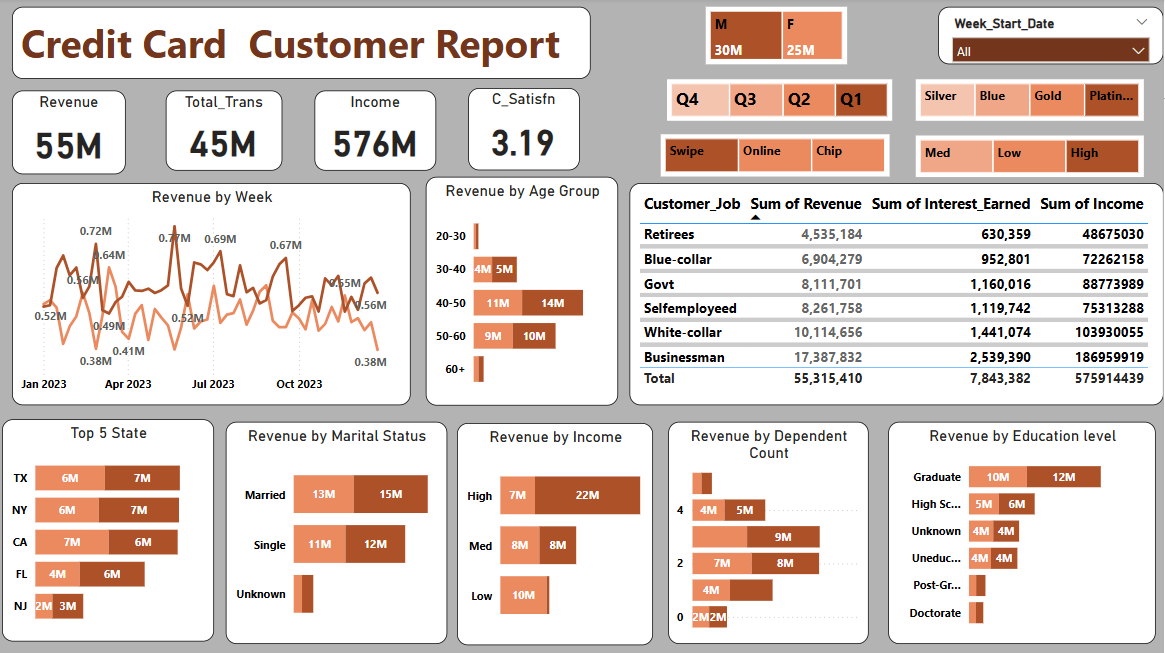

This screenshot's page, from the dashboard's own definition file:
{"tool":"powerbi","page":{"name":"Credit_Card_Customer_Report","canvas":[1280,720],"ordinal":2},"visuals":[{"type":"textbox","box":[15.8,10.1,635.1,79],"z":0},{"type":"barChart","title":" Revenue by Income","fields":{"Y":["Sum(credit_card.Revenue)"],"Category":["customer.Income Group"],"Series":["customer.Gender"]},"box":[505.5,466.4,215.5,244.3],"z":1000},{"type":"tableEx","fields":{"Values":["customer.Customer_Job","Sum(credit_card.Revenue)","Sum(credit_card.Interest_Earned)","Sum(customer.Income)"]},"box":[694,202.6,586.3,244.3],"z":2000},{"type":"card","title":"Income","fields":{"Values":["Sum(customer.Income)"]},"box":[349.2,102,133.6,87.7],"z":3000},{"type":"card","title":"Total_Trans","fields":{"Values":["Sum(credit_card.Total_Trans_Amt)"]},"box":[185.4,102,127.9,87.7],"z":4000},{"type":"card","title":"Revenue","fields":{"Values":["Sum(credit_card.Revenue)"]},"box":[15.8,102,125,92],"z":5000},{"type":"card","title":"C_Satisfn","fields":{"Values":["Avg(customer.Cust_Satisfaction_Score)"]},"box":[517.3,99.1,122.1,90.5],"z":6000},{"type":"slicer","fields":{"Values":["credit_card.Week_Start_Date"]},"box":[1033.1,10.1,247.1,63.2],"z":7000},{"type":"treemap","fields":{"Group":["credit_card.Qtr"],"Values":["Avg(credit_card.Client_Num)"]},"box":[735.7,89.1,247.1,46],"z":8000},{"type":"treemap","fields":{"Group":["credit_card.Card_Category"],"Values":["Avg(credit_card.Client_Num)"]},"box":[1008.7,89.1,250,46],"z":9000},{"type":"treemap","fields":{"Group":["customer.Income Group"],"Values":["Avg(credit_card.Client_Num)"]},"box":[1008.7,150.9,250,46],"z":10000},{"type":"lineChart","title":" Revenue by Week","fields":{"Y":["Sum(credit_card.Revenue)"],"Series":["customer.Gender"],"Category":["credit_card.Week_Start_Date.Variation.Date Hierarchy.Year","credit_card.Week_Start_Date.Variation.Date Hierarchy.Month","credit_card.Week_Start_Date.Variation.Date Hierarchy.Day"]},"box":[16.5,203.1,437.7,244.3],"z":11000},{"type":"treemap","fields":{"Group":["customer.Gender"],"Values":["Sum(credit_card.Revenue)"]},"box":[777.4,10.1,155.2,63.2],"z":12000},{"type":"barChart","title":" Revenue by Age Group","fields":{"Y":["Sum(credit_card.Revenue)"],"Category":["customer.Age Group","customer.Income Group"],"Series":["customer.Gender"]},"box":[470.7,196.2,211.3,251.1],"z":13000},{"type":"barChart","title":"Revenue by Dependent Count","fields":{"Y":["Sum(credit_card.Revenue)"],"Category":["customer.Dependent_Count"],"Series":["customer.Gender"]},"box":[736.9,465,219.8,244.3],"z":14000},{"type":"barChart","title":" Revenue by Education level","fields":{"Y":["Sum(credit_card.Revenue)"],"Category":["customer.Education_Level"],"Series":["customer.Gender"]},"box":[978.4,465.2,293.7,244.3],"z":15000},{"type":"barChart","title":"Top 5 State ","fields":{"Y":["Sum(credit_card.Revenue)"],"Category":["customer.state_cd"],"Series":["customer.Gender"]},"box":[5.2,461.8,232.8,244.3],"z":16000},{"type":"barChart","title":"Revenue by Marital Status","fields":{"Y":["Sum(credit_card.Revenue)"],"Category":["customer.Marital_Status"],"Series":["customer.Gender"]},"box":[251.2,465,242.8,244.3],"z":17000},{"type":"treemap","fields":{"Group":["credit_card.Use Chip"],"Values":["Avg(credit_card.Client_Num)"]},"box":[728.6,149.6,251.1,46.7],"z":18000}]}

Visuals, with their boxes in screenshot pixels (x1, y1, x2, y2), scaled from the page's 1280x720 canvas onto the 1165x653 screenshot:
textbox: crop(14, 9, 592, 81)
" Revenue by Income" barChart: crop(460, 423, 656, 645)
tableEx - customer.Customer_Job x Sum(credit_card.Revenue): crop(632, 184, 1164, 405)
"Income" card: crop(318, 93, 439, 172)
"Total_Trans" card: crop(169, 93, 285, 172)
"Revenue" card: crop(14, 93, 128, 176)
"C_Satisfn" card: crop(471, 90, 582, 172)
slicer - credit_card.Week_Start_Date: crop(940, 9, 1164, 66)
treemap - credit_card.Qtr x Avg(credit_card.Client_Num): crop(670, 81, 895, 123)
treemap - credit_card.Card_Category x Avg(credit_card.Client_Num): crop(918, 81, 1146, 123)
treemap - customer.Income Group x Avg(credit_card.Client_Num): crop(918, 137, 1146, 179)
" Revenue by Week" lineChart: crop(15, 184, 413, 406)
treemap - customer.Gender x Sum(credit_card.Revenue): crop(708, 9, 849, 66)
" Revenue by Age Group" barChart: crop(428, 178, 621, 406)
"Revenue by Dependent Count" barChart: crop(671, 422, 871, 643)
" Revenue by Education level" barChart: crop(890, 422, 1158, 643)
"Top 5 State " barChart: crop(5, 419, 217, 640)
"Revenue by Marital Status" barChart: crop(229, 422, 450, 643)
treemap - credit_card.Use Chip x Avg(credit_card.Client_Num): crop(663, 136, 892, 178)
